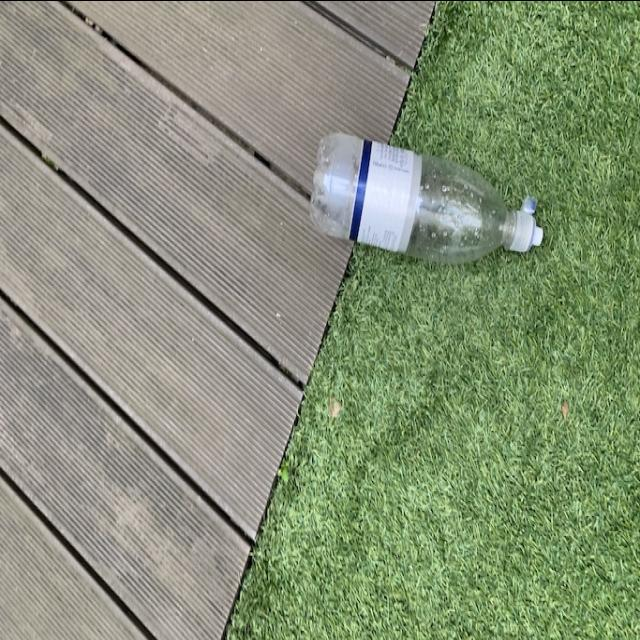PET: (308, 131, 548, 265)
